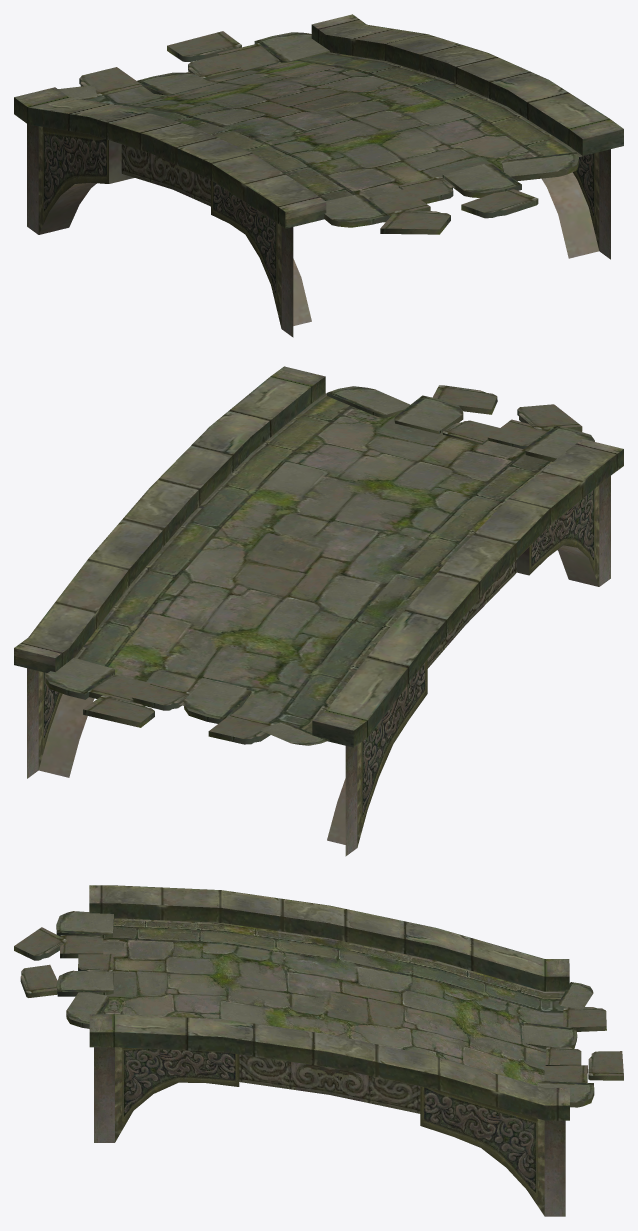
Rendered from THL1_4.fbx.
3 views of the same model, one above another, from view 1: azimuth 30°, elevation 25°; view 2: azimuth 150°, elevation 25°; view 3: azimuth 270°, elevation 25° (orthographic). The views are drawn at different scales.
Visible parts, largest first — view 1: taohualin:polySurface32; view 2: taohualin:polySurface32; view 3: taohualin:polySurface32.
Part boxes in pixels (x1,y1,x2,y2): taohualin:polySurface32: (14,14,623,337); taohualin:polySurface32: (14,366,623,856); taohualin:polySurface32: (14,885,623,1216).
Bounding box in the file's own units: 9.04 × 5.42 × 15.84.
